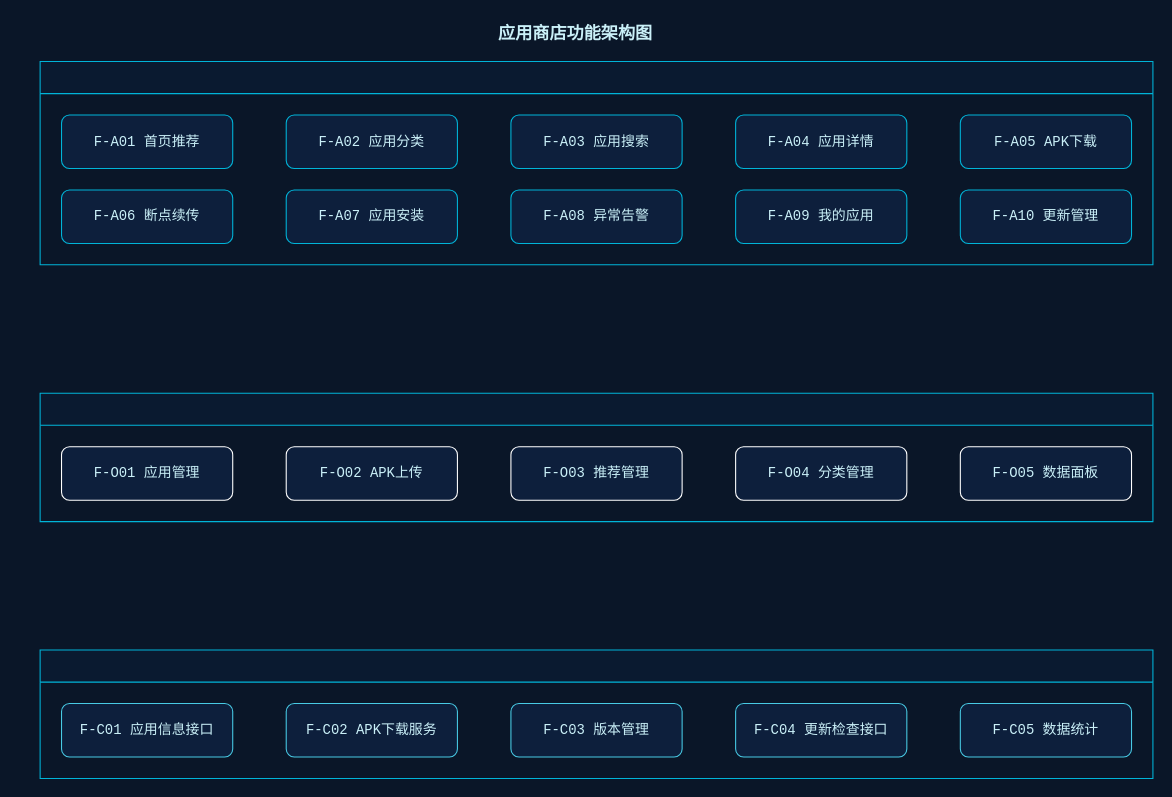
This 1172x797 diagram has some shape labels left out. The box of each missing label's shape, as (x1, y1, x2, y2) in pixels:
云端服务: (39, 649, 1153, 778)
应用商店 App（车机端 · Android）: (39, 60, 1153, 265)
运营后台（Web）: (39, 392, 1153, 522)
